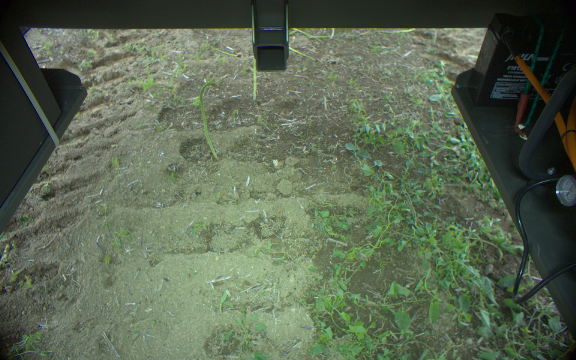aspa: (195, 79, 220, 160), (246, 55, 257, 100)
